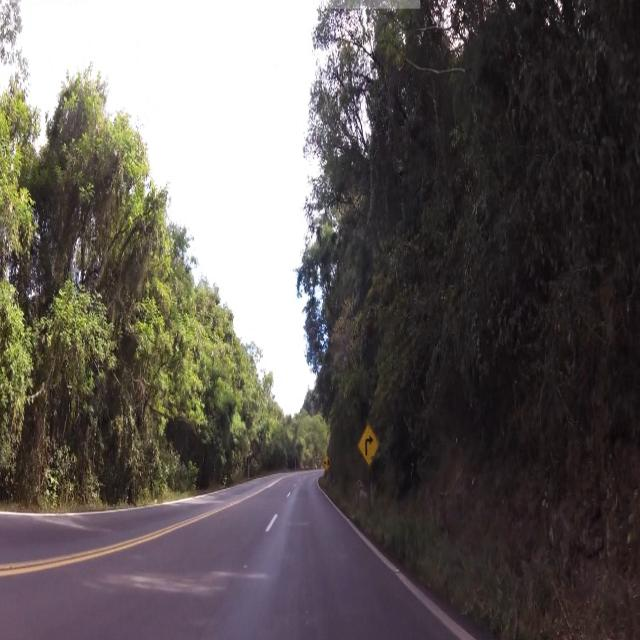A-1b: (358, 420, 383, 466)
